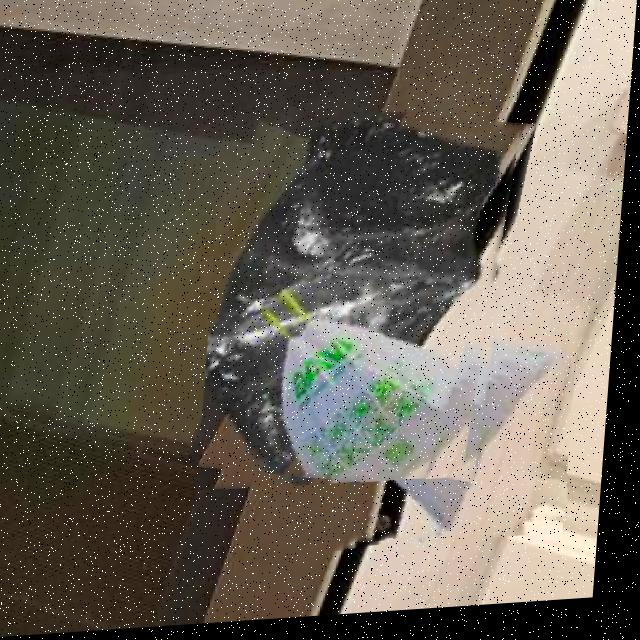plasticcover: (204, 103, 528, 498), (287, 301, 585, 558)
